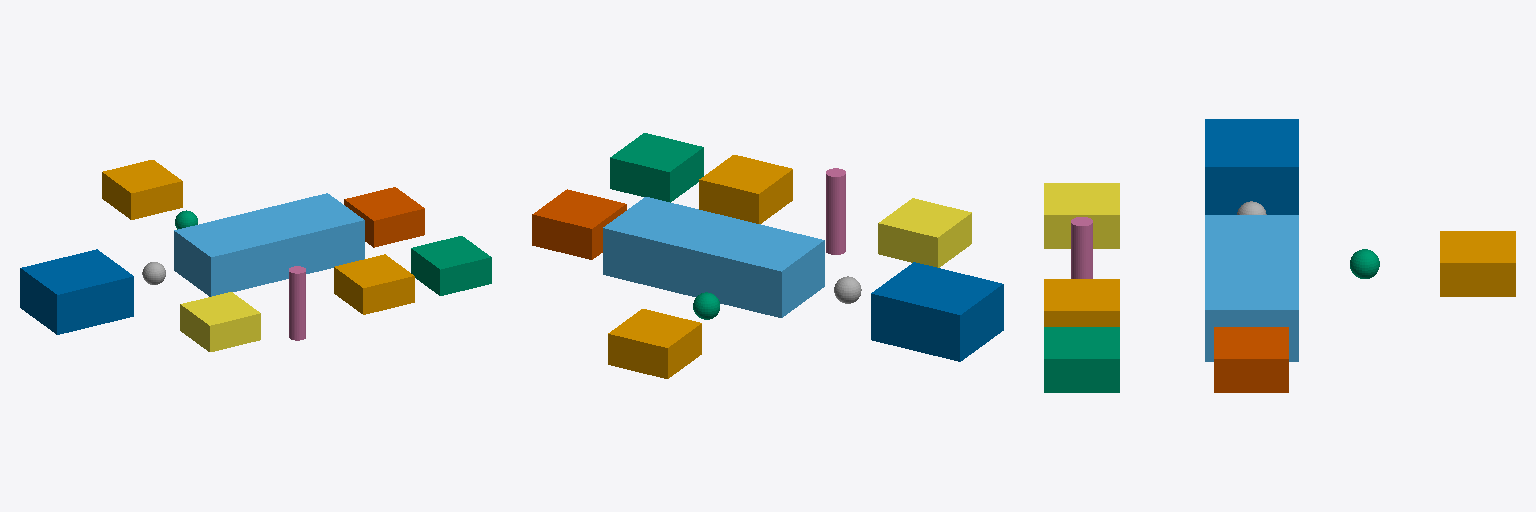
robot.urdf — transmission_structure_for_an_automotive_vehicle_and_an_engine:
<?xml version="1.0" ?>
<robot name="transmission_structure_for_an_automotive_vehicle_and_an_engine">
  <link name="another_end_portion">
    <visual>
      <geometry>
        <box size="0.04 0.04 0.02"/>
      </geometry>
    </visual>
  </link>
  <link name="differential_housing">
    <visual>
      <geometry>
        <box size="0.06 0.05 0.03"/>
      </geometry>
    </visual>
  </link>
  <link name="end_portions">
    <visual>
      <geometry>
        <box size="0.04 0.04 0.02"/>
      </geometry>
    </visual>
  </link>
  <link name="engine">
    <visual>
      <geometry>
        <box size="0.04 0.04 0.02"/>
      </geometry>
    </visual>
  </link>
  <link name="first_housing">
    <visual>
      <geometry>
        <box size="0.06 0.05 0.03"/>
      </geometry>
    </visual>
  </link>
  <link name="one_end_portion">
    <visual>
      <geometry>
        <box size="0.04 0.04 0.02"/>
      </geometry>
    </visual>
  </link>
  <link name="output_shaft">
    <visual>
      <geometry>
        <cylinder radius="0.006" length="0.05"/>
      </geometry>
    </visual>
  </link>
  <link name="power_transmitting_device">
    <visual>
      <geometry>
        <sphere radius="0.008"/>
      </geometry>
    </visual>
  </link>
  <link name="reinforcement_element">
    <visual>
      <geometry>
        <box size="0.04 0.04 0.02"/>
      </geometry>
    </visual>
  </link>
  <link name="second_housing">
    <visual>
      <geometry>
        <box size="0.06 0.05 0.03"/>
      </geometry>
    </visual>
  </link>
  <link name="transmission_device">
    <visual>
      <geometry>
        <sphere radius="0.008"/>
      </geometry>
    </visual>
  </link>
  <joint name="_attach_first_housing_to_differential_housing" type="fixed">
    <parent link="first_housing"/>
    <child link="differential_housing"/>
    <origin xyz="0.1800 0.0000 0.0000" rpy="0 0 0"/>
  </joint>
  <joint name="_attach_first_housing_to_end_portions" type="fixed">
    <parent link="first_housing"/>
    <child link="end_portions"/>
    <origin xyz="0.2400 -0.0900 0.0000" rpy="0 0 0"/>
  </joint>
  <joint name="_attach_first_housing_to_engine" type="fixed">
    <parent link="first_housing"/>
    <child link="engine"/>
    <origin xyz="0.0600 -0.0900 0.0000" rpy="0 0 0"/>
  </joint>
  <joint name="_attach_first_housing_to_one_end_portion" type="fixed">
    <parent link="first_housing"/>
    <child link="one_end_portion"/>
    <origin xyz="0.2400 0.0000 0.0000" rpy="0 0 0"/>
  </joint>
  <joint name="_attach_first_housing_to_output_shaft" type="fixed">
    <parent link="first_housing"/>
    <child link="output_shaft"/>
    <origin xyz="0.1200 -0.0900 0.0000" rpy="0 0 0"/>
  </joint>
  <joint name="_attach_first_housing_to_power_transmitting_device" type="fixed">
    <parent link="first_housing"/>
    <child link="power_transmitting_device"/>
    <origin xyz="0.0600 0.0000 0.0000" rpy="0 0 0"/>
  </joint>
  <joint name="_attach_first_housing_to_reinforcement_element" type="fixed">
    <parent link="first_housing"/>
    <child link="reinforcement_element"/>
    <origin xyz="0.1800 -0.0900 0.0000" rpy="0 0 0"/>
  </joint>
  <joint name="_attach_first_housing_to_second_housing" type="fixed">
    <parent link="first_housing"/>
    <child link="second_housing"/>
    <origin xyz="0.1200 0.0000 0.0000" rpy="0 0 0"/>
  </joint>
  <joint name="_attach_first_housing_to_transmission_device" type="fixed">
    <parent link="first_housing"/>
    <child link="transmission_device"/>
    <origin xyz="0.1200 0.0600 0.0000" rpy="0 0 0"/>
  </joint>
  <joint name="_attach_second_housing_to_another_end_portion" type="fixed">
    <parent link="second_housing"/>
    <child link="another_end_portion"/>
    <origin xyz="0.0000 0.1200 0.0000" rpy="0 0 0"/>
  </joint>
</robot>

--- Render facts (derived) ---
3 views of the same robot in one strip: view 1: azimuth 30°, elevation 25°; view 2: azimuth 150°, elevation 25°; view 3: azimuth 270°, elevation 25° (orthographic).
Model transmission_structure_for_an_automotive_vehicle_and_an_engine with 11 links and 10 joints (10 fixed), rooted at first_housing, posed all joints at 0.
Visible links, largest first — view 1: first_housing, second_housing, differential_housing, another_end_portion, engine, reinforcement_element, end_portions, one_end_portion, output_shaft; view 2: first_housing, second_housing, differential_housing, another_end_portion, engine, end_portions, reinforcement_element, one_end_portion, output_shaft, power_transmitting_device, transmission_device; view 3: first_housing, differential_housing, another_end_portion, end_portions, one_end_portion, second_housing, engine, reinforcement_element, output_shaft, transmission_device.
Link boxes in pixels (left/top/right/bottom): first_housing: left=20, top=249, right=133, bottom=334; second_housing: left=174, top=212, right=287, bottom=296; differential_housing: left=252, top=193, right=364, bottom=278; another_end_portion: left=102, top=160, right=182, bottom=219; engine: left=180, top=292, right=260, bottom=351; reinforcement_element: left=334, top=254, right=414, bottom=314; end_portions: left=411, top=236, right=491, bottom=295; one_end_portion: left=344, top=187, right=424, bottom=247; output_shaft: left=289, top=266, right=305, bottom=340; first_housing: left=871, top=262, right=1003, bottom=361; second_housing: left=692, top=218, right=824, bottom=317; differential_housing: left=603, top=197, right=734, bottom=295; another_end_portion: left=608, top=309, right=701, bottom=378; engine: left=878, top=198, right=971, bottom=267; end_portions: left=610, top=133, right=703, bottom=202; reinforcement_element: left=699, top=155, right=792, bottom=223; one_end_portion: left=532, top=189, right=626, bottom=259; output_shaft: left=826, top=168, right=845, bottom=254; power_transmitting_device: left=834, top=276, right=861, bottom=303; transmission_device: left=693, top=292, right=719, bottom=319; first_housing: left=1205, top=119, right=1298, bottom=214; differential_housing: left=1205, top=263, right=1298, bottom=361; another_end_portion: left=1440, top=231, right=1515, bottom=296; end_portions: left=1044, top=327, right=1119, bottom=392; one_end_portion: left=1214, top=327, right=1288, bottom=392; second_housing: left=1205, top=215, right=1298, bottom=262; engine: left=1044, top=183, right=1119, bottom=248; reinforcement_element: left=1044, top=279, right=1119, bottom=326; output_shaft: left=1071, top=217, right=1092, bottom=278; transmission_device: left=1350, top=249, right=1379, bottom=278.
Bounding box of the posed robot: 0.29 × 0.25 × 0.05 m (x, y, z).
Geometry: primitives only (box / cylinder / sphere), no mesh files.
